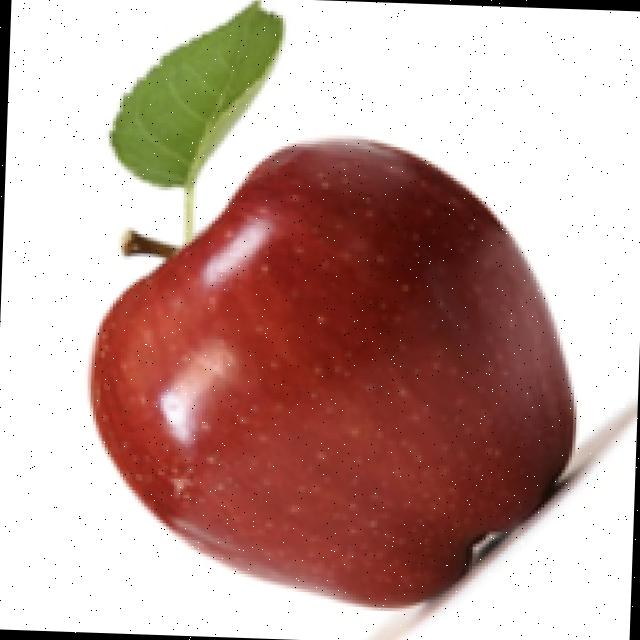apple: (81, 79, 634, 640)
